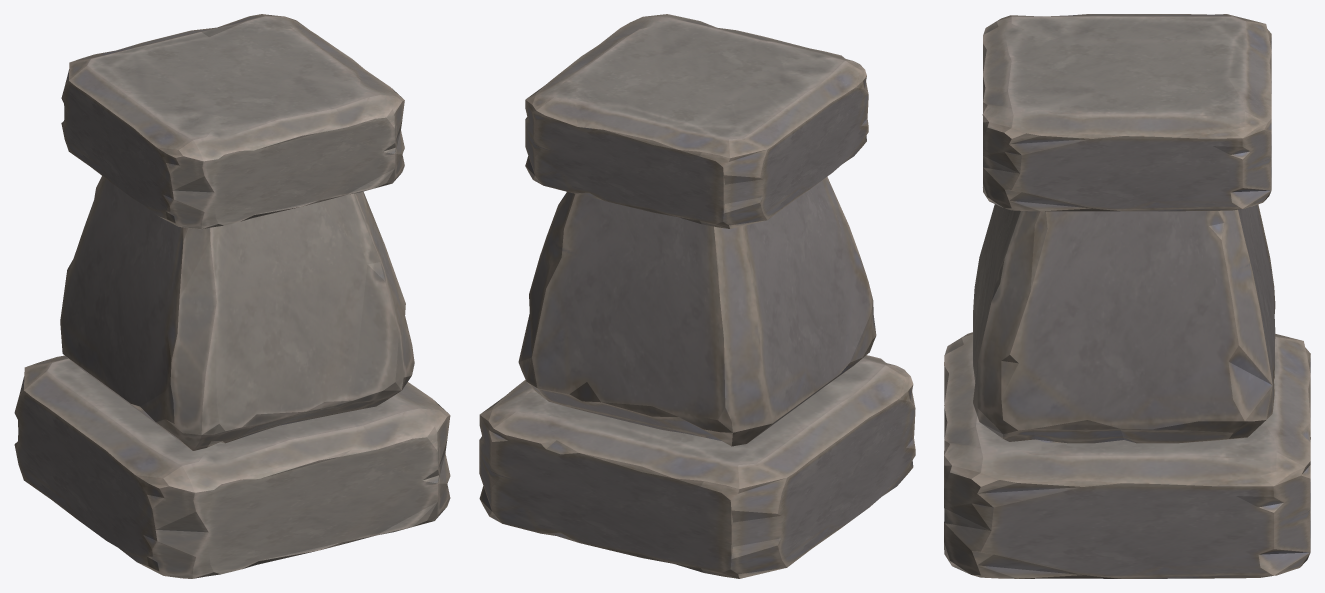
The model's file is Ruined_Cube04.fbx.
3 renders of one model, left to right at view 1: azimuth 30°, elevation 25°; view 2: azimuth 150°, elevation 25°; view 3: azimuth 270°, elevation 25°, orthographic. The views are drawn at different scales.
Visible parts, largest first — view 1: Ruined_Cube_L2.004; view 2: Ruined_Cube_L2.004; view 3: Ruined_Cube_L2.004.
Boxes of the visible parts, x1,y1,x2,y2 form: Ruined_Cube_L2.004: (14,14,450,578); Ruined_Cube_L2.004: (479,14,915,578); Ruined_Cube_L2.004: (944,14,1310,578).
Bounding box in the file's own units: 243 × 327 × 242.
1 material, 1 textured.
